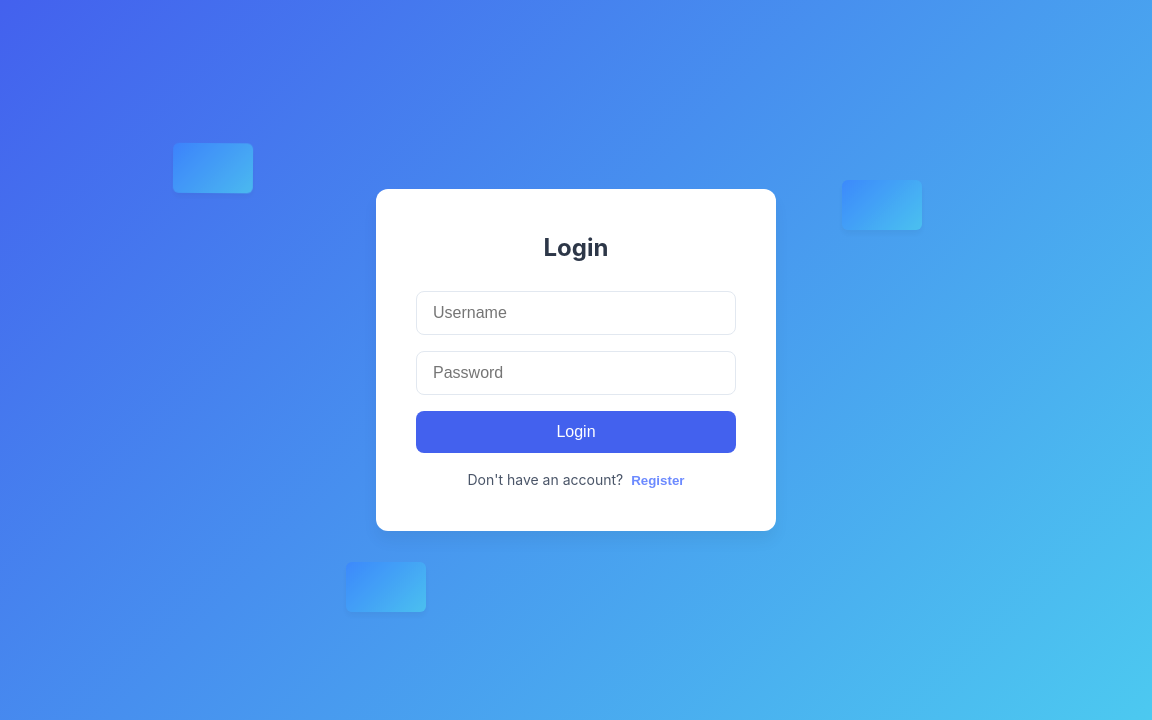
Test: Register Page Test › should allow switching back to login
Click the button with test id "auth-mode-switch" at point(658, 481), box [631, 473, 684, 488]
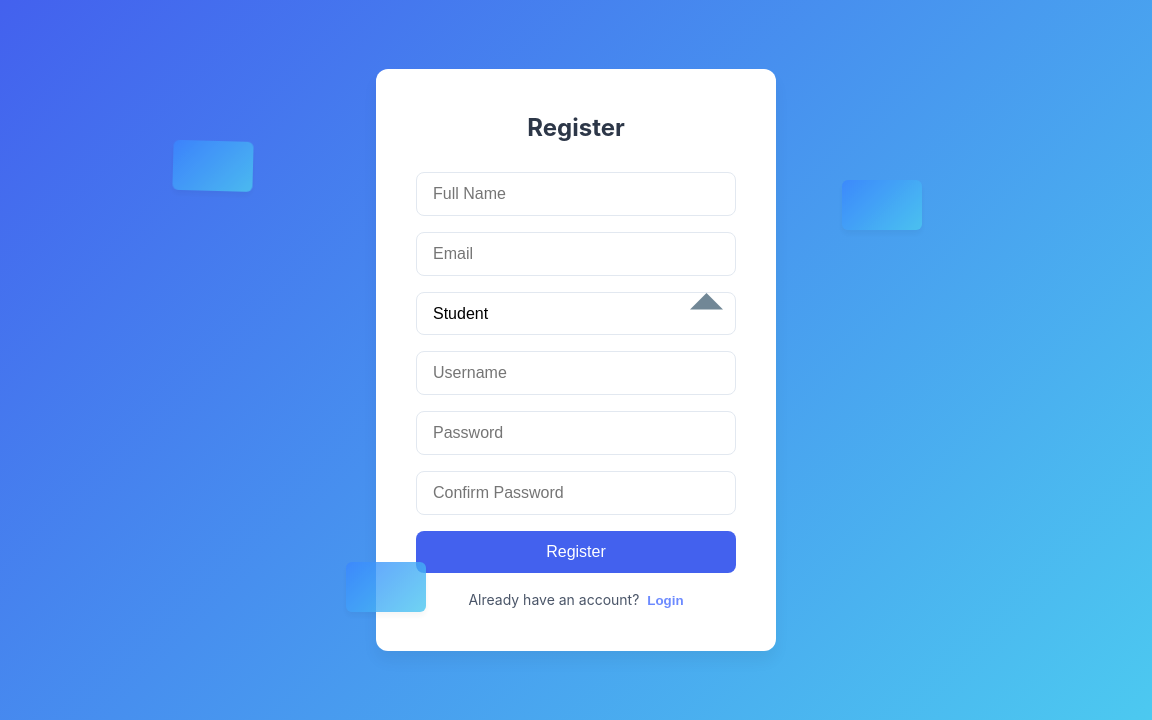
Click the button "Login" at point(665, 601), box [647, 593, 683, 608]
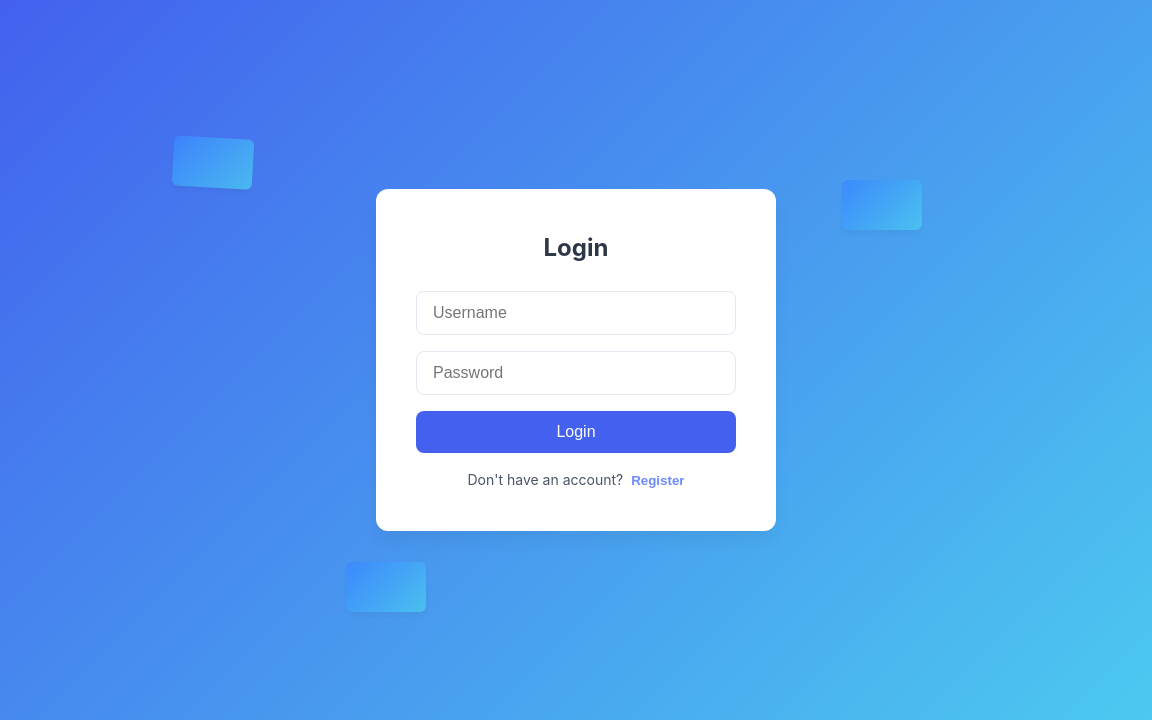
Result: the field with placeholder "Email" is gone
Result: the button "Login" is shown at [416, 411, 736, 453]
